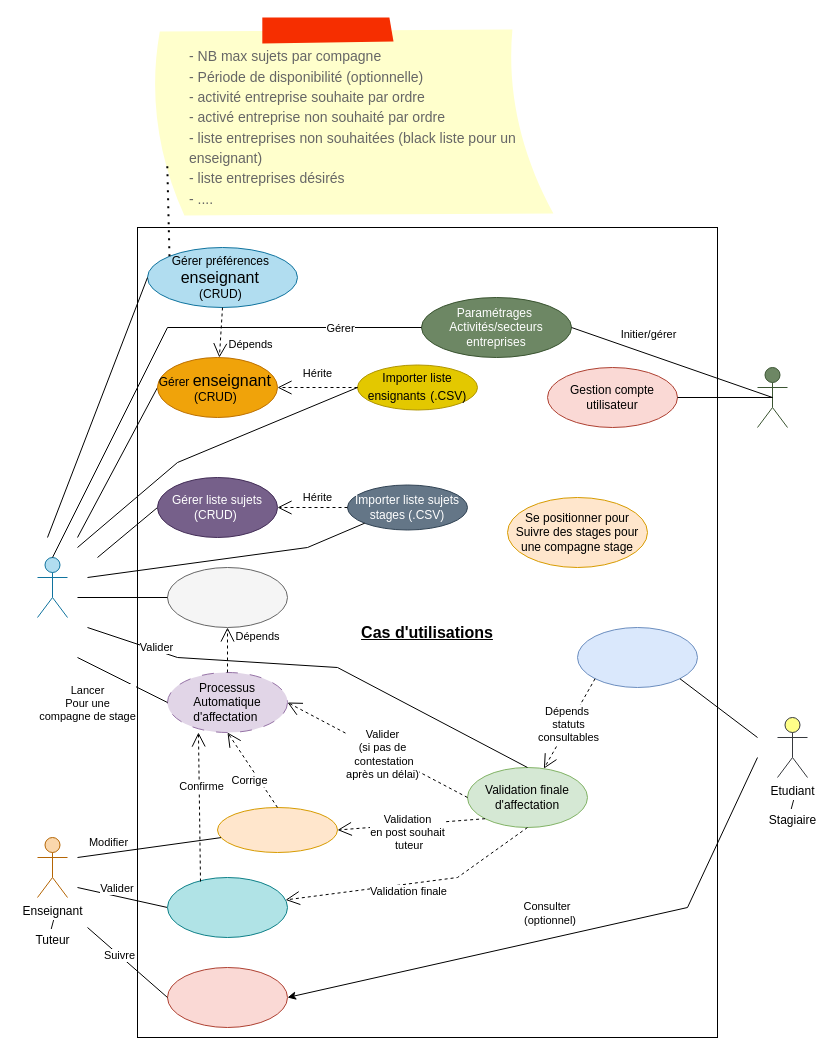
Image size: 833x1055. Some labels were removed from this diagram. The centre of each missing label's shape, as x and y in pixels:
"Administrateur système" belongs at [772,397].
"Consulter affectation Sujet" belongs at [637,657].
"Gérer les compagnes de stages" belongs at [227,597].
"Modifier affectation" belongs at [277,829].
"Responsable Stage" belongs at [52,587].
"Suivre un sujet/stage" belongs at [227,997].
"Valider affectation Par tuteur" belongs at [227,907].
